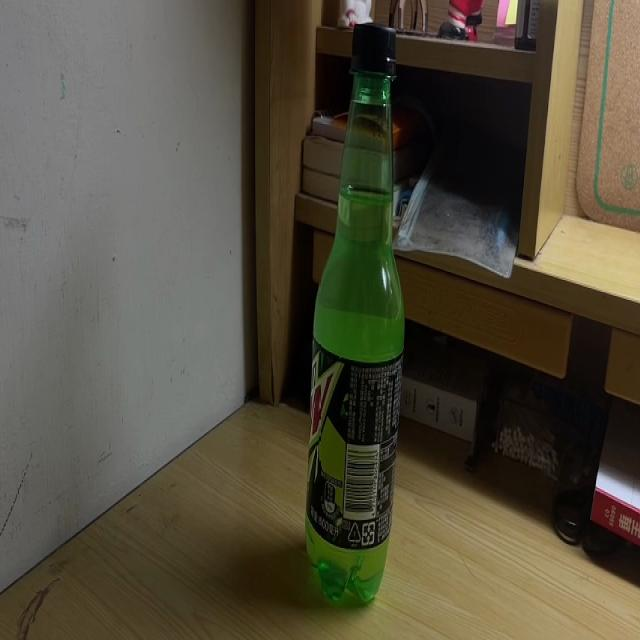Mountain-Dew: (306, 25, 408, 604)
